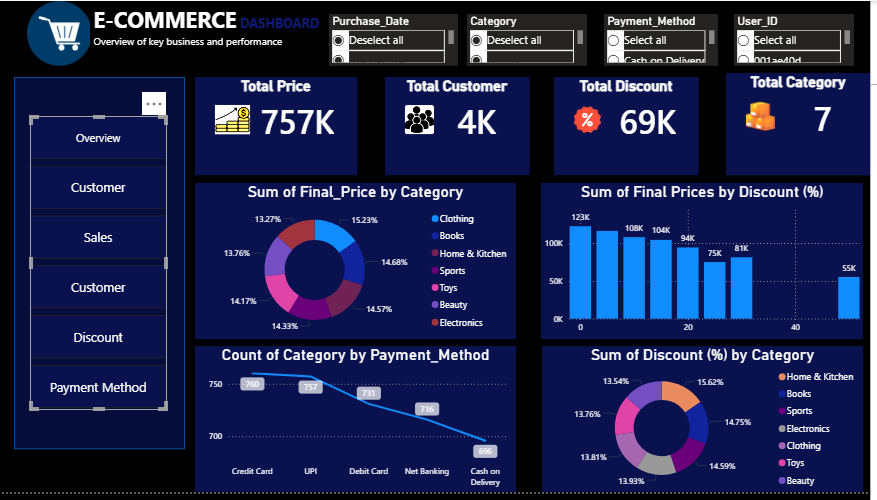

Layout of this report page (visuals, bound fields, positions):
{"tool":"powerbi","page":{"name":"Overview","canvas":[1280,720],"ordinal":0},"visuals":[{"type":"shape","title":"Menu background","box":[24.5,110.9,250.6,545.8],"z":0},{"type":"image","box":[0,0,182.9,95],"z":1000},{"type":"textbox","box":[136.8,0,349.9,110.9],"z":2000},{"type":"pageNavigator","title":"Menu buttons","box":[49,168.5,200.2,430.6],"z":3000},{"type":"cardVisual","title":"Total Price","fields":{"Data":["New measure.Total Price"]},"box":[290.9,110.9,237.6,144],"z":4000},{"type":"cardVisual","title":"Total Customer","fields":{"Data":["New measure.Total Customers"]},"box":[568.8,110.9,211.7,144],"z":5000},{"type":"cardVisual","title":"Total Discount","fields":{"Data":["New measure.Total Discount"]},"box":[816.5,110.9,211.7,144],"z":6000},{"type":"cardVisual","title":"Total Category","fields":{"Data":["New measure.Total Category"]},"box":[1068.5,105.1,211.7,149.8],"z":7000},{"type":"donutChart","title":"Sum of Final_Price by Category","fields":{"Category":["ecommerce_dataset_updated.Category"],"Y":["Sum(ecommerce_dataset_updated.Final_Price(Rs.))"]},"box":[290.9,266.4,470.9,229],"z":8000},{"type":"columnChart","title":"Sum of Final Prices by Discount (%)","fields":{"Category":["ecommerce_dataset_updated.Discount (%)"],"Y":["Sum(ecommerce_dataset_updated.Final_Price(Rs.))"]},"box":[797.8,266.4,472.3,229],"z":9000},{"type":"donutChart","fields":{"Category":["ecommerce_dataset_updated.Category"],"Y":["Sum(ecommerce_dataset_updated.Discount (%))"]},"box":[799.2,505.4,470.9,214.6],"z":10000},{"type":"lineClusteredColumnComboChart","fields":{"Y2":["CountNonNull(ecommerce_dataset_updated.Category)"],"Category":["ecommerce_dataset_updated.Payment_Method"]},"box":[290.9,505.4,470.9,214.6],"z":11000},{"type":"listSlicer","fields":{"Values":["ecommerce_dataset_updated.Purchase_Date"]},"box":[486.7,18.7,188.6,76.3],"z":11001},{"type":"listSlicer","fields":{"Values":["ecommerce_dataset_updated.Category"]},"box":[689.8,18.7,175.7,76.3],"z":11002},{"type":"listSlicer","fields":{"Values":["ecommerce_dataset_updated.Payment_Method"]},"box":[889.9,18.7,167,76.3],"z":11003},{"type":"listSlicer","fields":{"Values":["ecommerce_dataset_updated.User_ID"]},"box":[1080,18.7,175.7,76.3],"z":11004}]}

Visuals, with their boxes in screenshot pixels (x1, y1, x2, y2), scaled from the page's 1280x720 canvas onto the 877x500 screenshot:
"Menu background" shape: detection(17, 77, 188, 456)
image: detection(0, 0, 125, 66)
textbox: detection(94, 0, 333, 77)
"Menu buttons" pageNavigator: detection(34, 117, 171, 416)
"Total Price" cardVisual: detection(199, 77, 362, 177)
"Total Customer" cardVisual: detection(390, 77, 535, 177)
"Total Discount" cardVisual: detection(559, 77, 704, 177)
"Total Category" cardVisual: detection(732, 73, 876, 177)
"Sum of Final_Price by Category" donutChart: detection(199, 185, 522, 344)
"Sum of Final Prices by Discount (%)" columnChart: detection(547, 185, 870, 344)
donutChart - ecommerce_dataset_updated.Category x Sum(ecommerce_dataset_updated.Discount (%)): detection(548, 351, 870, 499)
lineClusteredColumnComboChart - CountNonNull(ecommerce_dataset_updated.Category) x ecommerce_dataset_updated.Payment_Method: detection(199, 351, 522, 499)
listSlicer - ecommerce_dataset_updated.Purchase_Date: detection(333, 13, 463, 66)
listSlicer - ecommerce_dataset_updated.Category: detection(473, 13, 593, 66)
listSlicer - ecommerce_dataset_updated.Payment_Method: detection(610, 13, 724, 66)
listSlicer - ecommerce_dataset_updated.User_ID: detection(740, 13, 860, 66)
